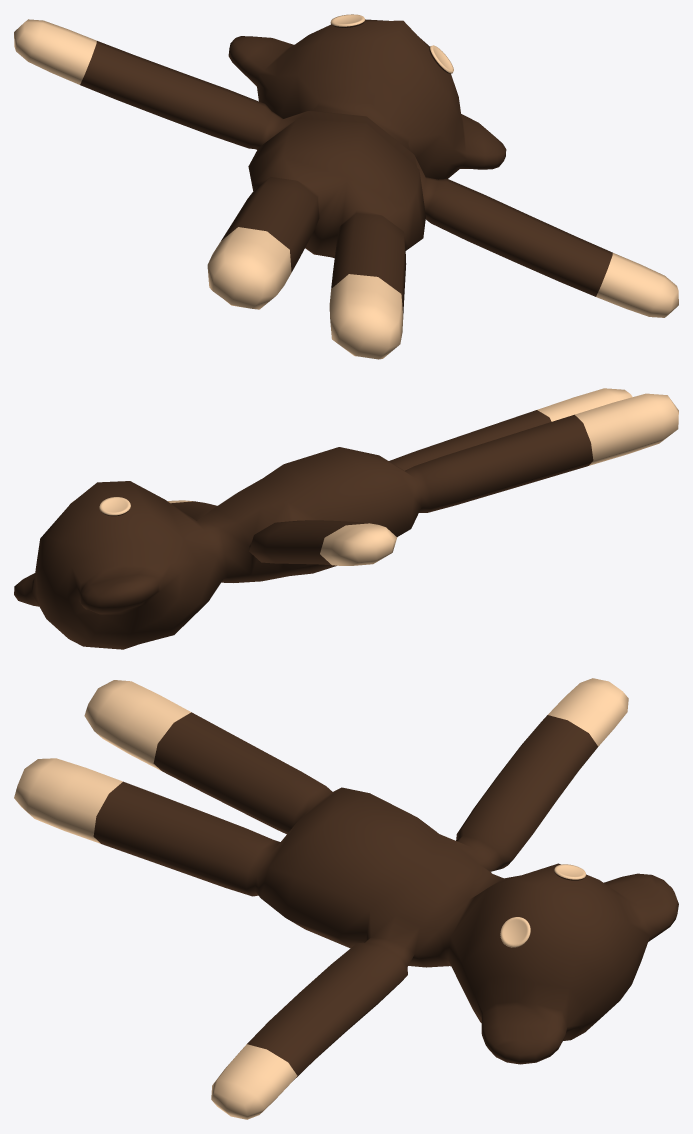
File: ToyObject_195.fbx
3 views of the same model, one above another, from view 1: azimuth 30°, elevation 25°; view 2: azimuth 150°, elevation 25°; view 3: azimuth 270°, elevation 25° (orthographic). The views are drawn at different scales.
Visible parts, largest first — view 1: Object.018; view 2: Object.018; view 3: Object.018.
Part boxes in pixels (x1,y1,x2,y2): Object.018: [14, 14, 678, 359]; Object.018: [14, 388, 678, 649]; Object.018: [14, 678, 678, 1119].
Bounding box in the file's own units: 0.1367 × 0.0618 × 0.1586.
